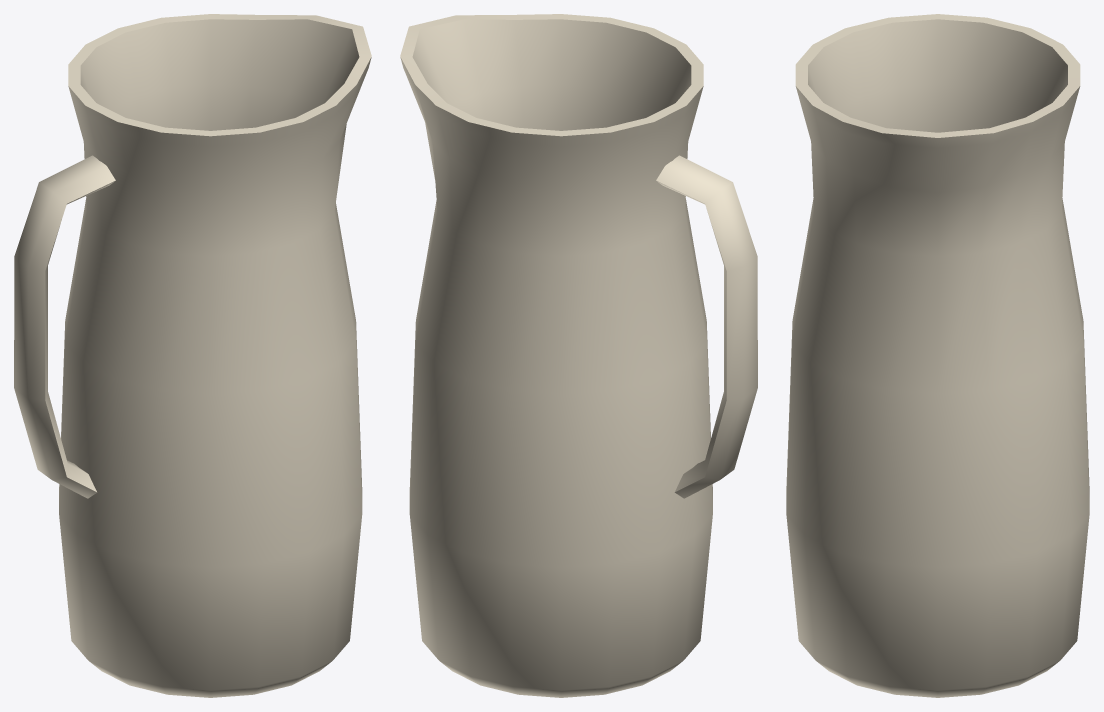
File: water_jug.glb
The picture shows the model from 3 angles, left to right: view 1: azimuth 30°, elevation 25°; view 2: azimuth 150°, elevation 25°; view 3: azimuth 270°, elevation 25°; orthographic projection.
Parts seen in each view (by area): view 1: body; view 2: body; view 3: body.
Boxes of the visible parts, x1,y1,x2,y2 form: body: (14,14,371,697); body: (400,14,757,697); body: (786,14,1089,697).
Bounding box in the file's own units: 0.1256 × 0.204 × 0.0965.
